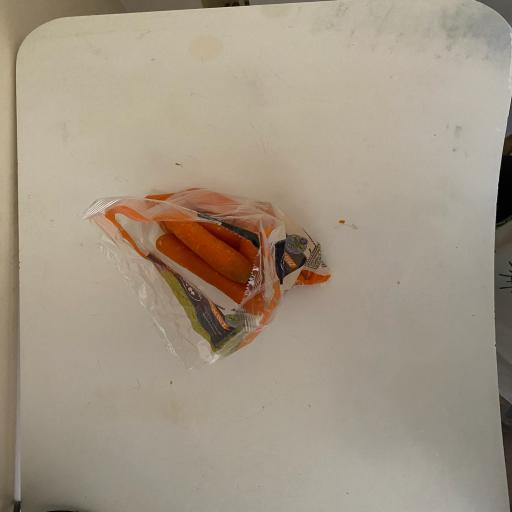carrot: (83, 182, 402, 393)
